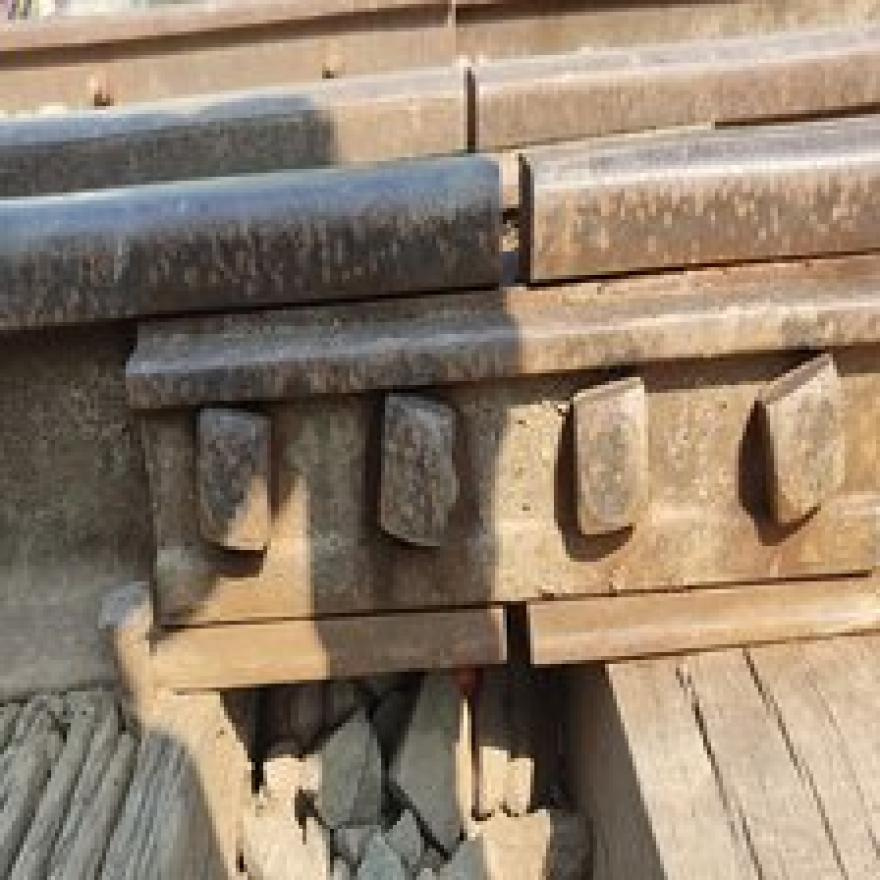railway-gap: (422, 152, 590, 310), (472, 575, 586, 686), (424, 61, 523, 150)
